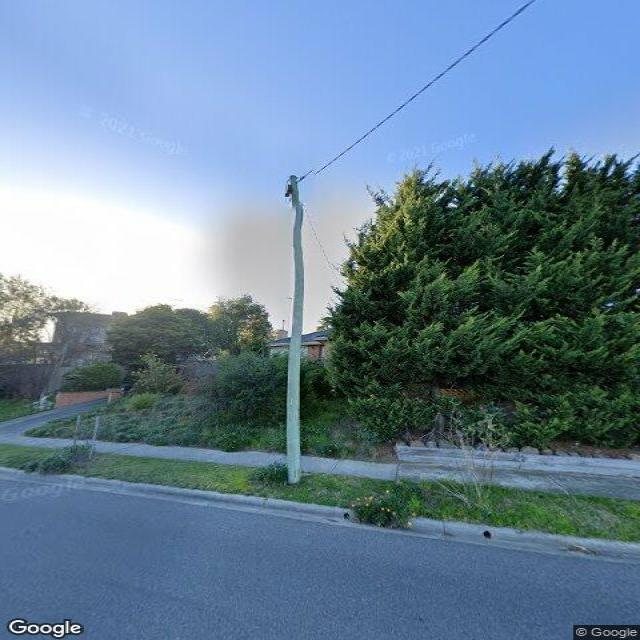timber-pole: (285, 175, 305, 485)
